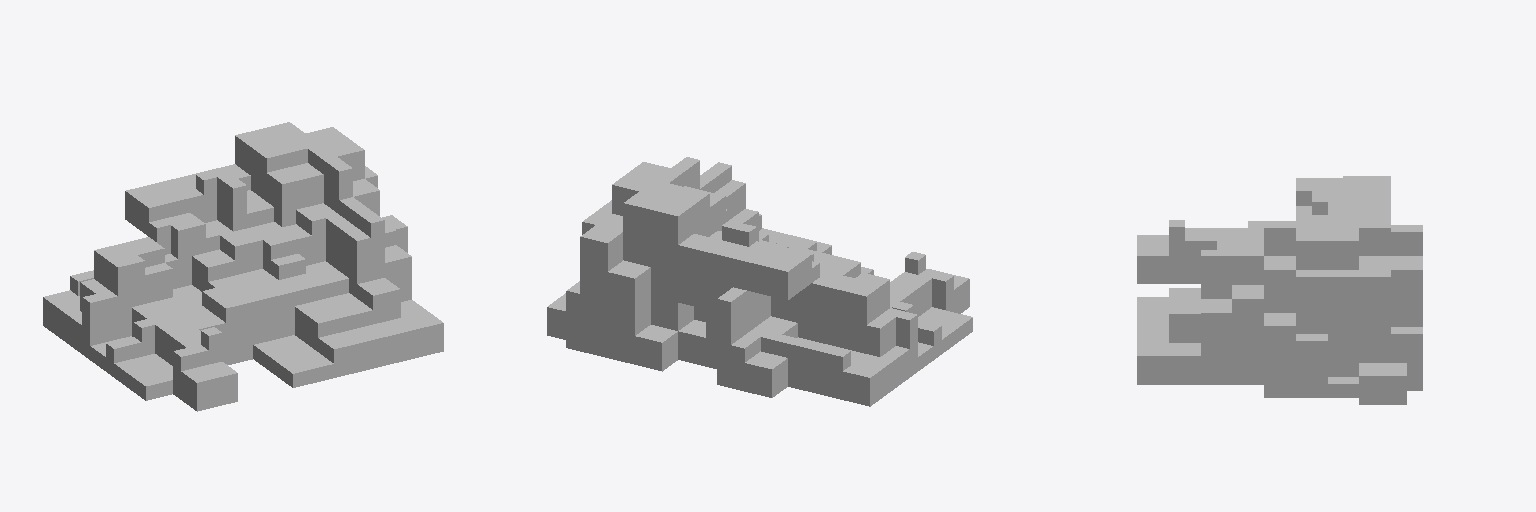
The model's file is kamien 3.obj.
The picture shows the model from 3 angles: view 1: azimuth 30°, elevation 25°; view 2: azimuth 150°, elevation 25°; view 3: azimuth 270°, elevation 25°; orthographic projection.
Visible parts, largest first — view 1: object 1; view 2: object 1; view 3: object 1.
Boxes of the visible parts, x1=… form: object 1: x1=43, y1=122, x2=443, y2=411; object 1: x1=547, y1=157, x2=972, y2=406; object 1: x1=1137, y1=176, x2=1422, y2=404.
Size of the model in its own units: 2.3 by 1 by 1.8.